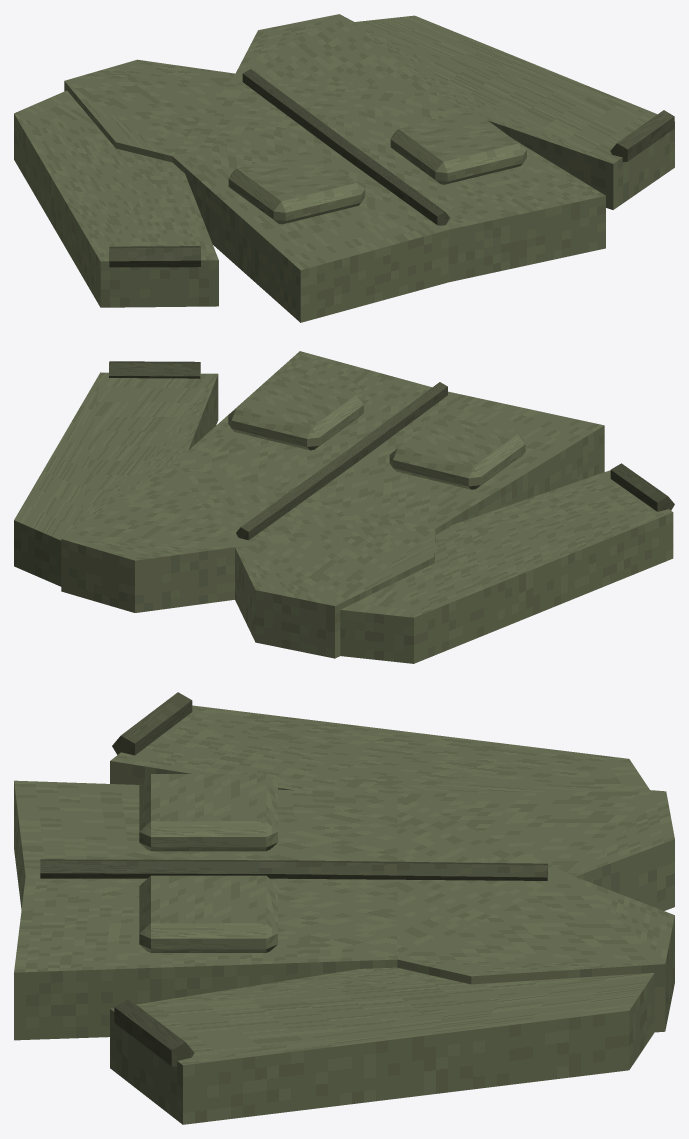
The model's file is jacket_eod.glb.
3 renders of one model, top to bottom at view 1: azimuth 30°, elevation 25°; view 2: azimuth 150°, elevation 25°; view 3: azimuth 270°, elevation 25°, orthographic. The views are drawn at different scales.
Visible parts, largest first — view 1: block_garment body, block_sleeve (×2), block_raised front pocket (×2), block_cuff 0 (×2), block_front closure 1, block_front closure 0; view 2: block_garment body, block_sleeve (×2), block_raised front pocket (×2), block_cuff 0 (×2), block_front closure 0, block_front closure 1; view 3: block_garment body, block_sleeve (×2), block_raised front pocket (×2), block_front closure 0, block_cuff 0 (×2), block_front closure 1.
Part boxes in pixels (box(x1,y1,x2,y2)): block_garment body: box(64, 14, 605, 322); block_sleeve (×2): box(14, 15, 674, 307); block_raised front pocket (×2): box(228, 110, 526, 224); block_cuff 0 (×2): box(109, 110, 674, 267); block_front closure 1: box(342, 143, 449, 225); block_front closure 0: box(242, 69, 350, 156); block_garment body: box(61, 351, 604, 658); block_sleeve (×2): box(14, 372, 673, 663); block_raised front pocket (×2): box(228, 376, 525, 489); block_cuff 0 (×2): box(109, 361, 674, 511); block_front closure 0: box(236, 451, 353, 540); block_front closure 1: box(346, 382, 447, 464); block_garment body: box(14, 776, 674, 1040); block_sleeve (×2): box(110, 705, 654, 1124); block_raised front pocket (×2): box(139, 774, 277, 952); block_front closure 0: box(283, 860, 547, 880); block_cuff 0 (×2): box(112, 692, 194, 1066); block_front closure 1: box(40, 859, 283, 878).
Bounding box in the file's own units: 1.16 × 0.1433 × 0.8951.
1 material, 1 textured.
